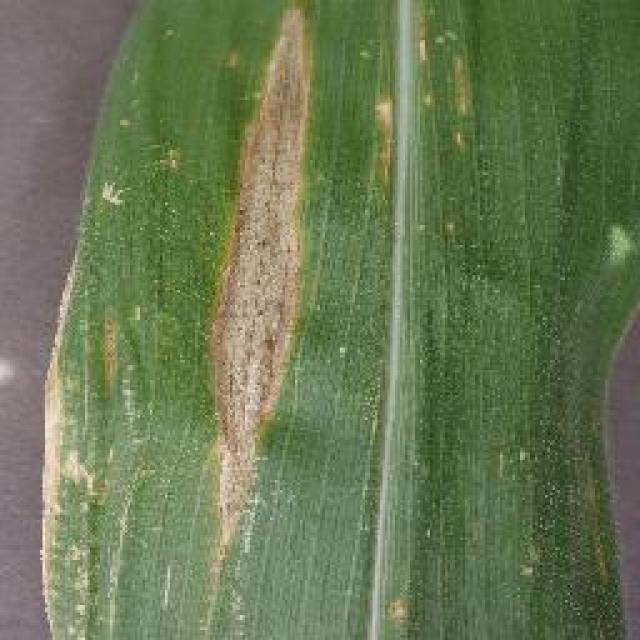Corn___Northern_Leaf_Blight: (32, 0, 640, 640)
